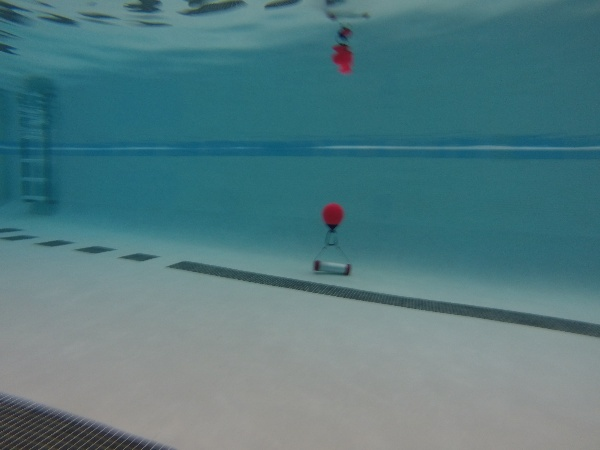buoy_red: (319, 202, 345, 233)
